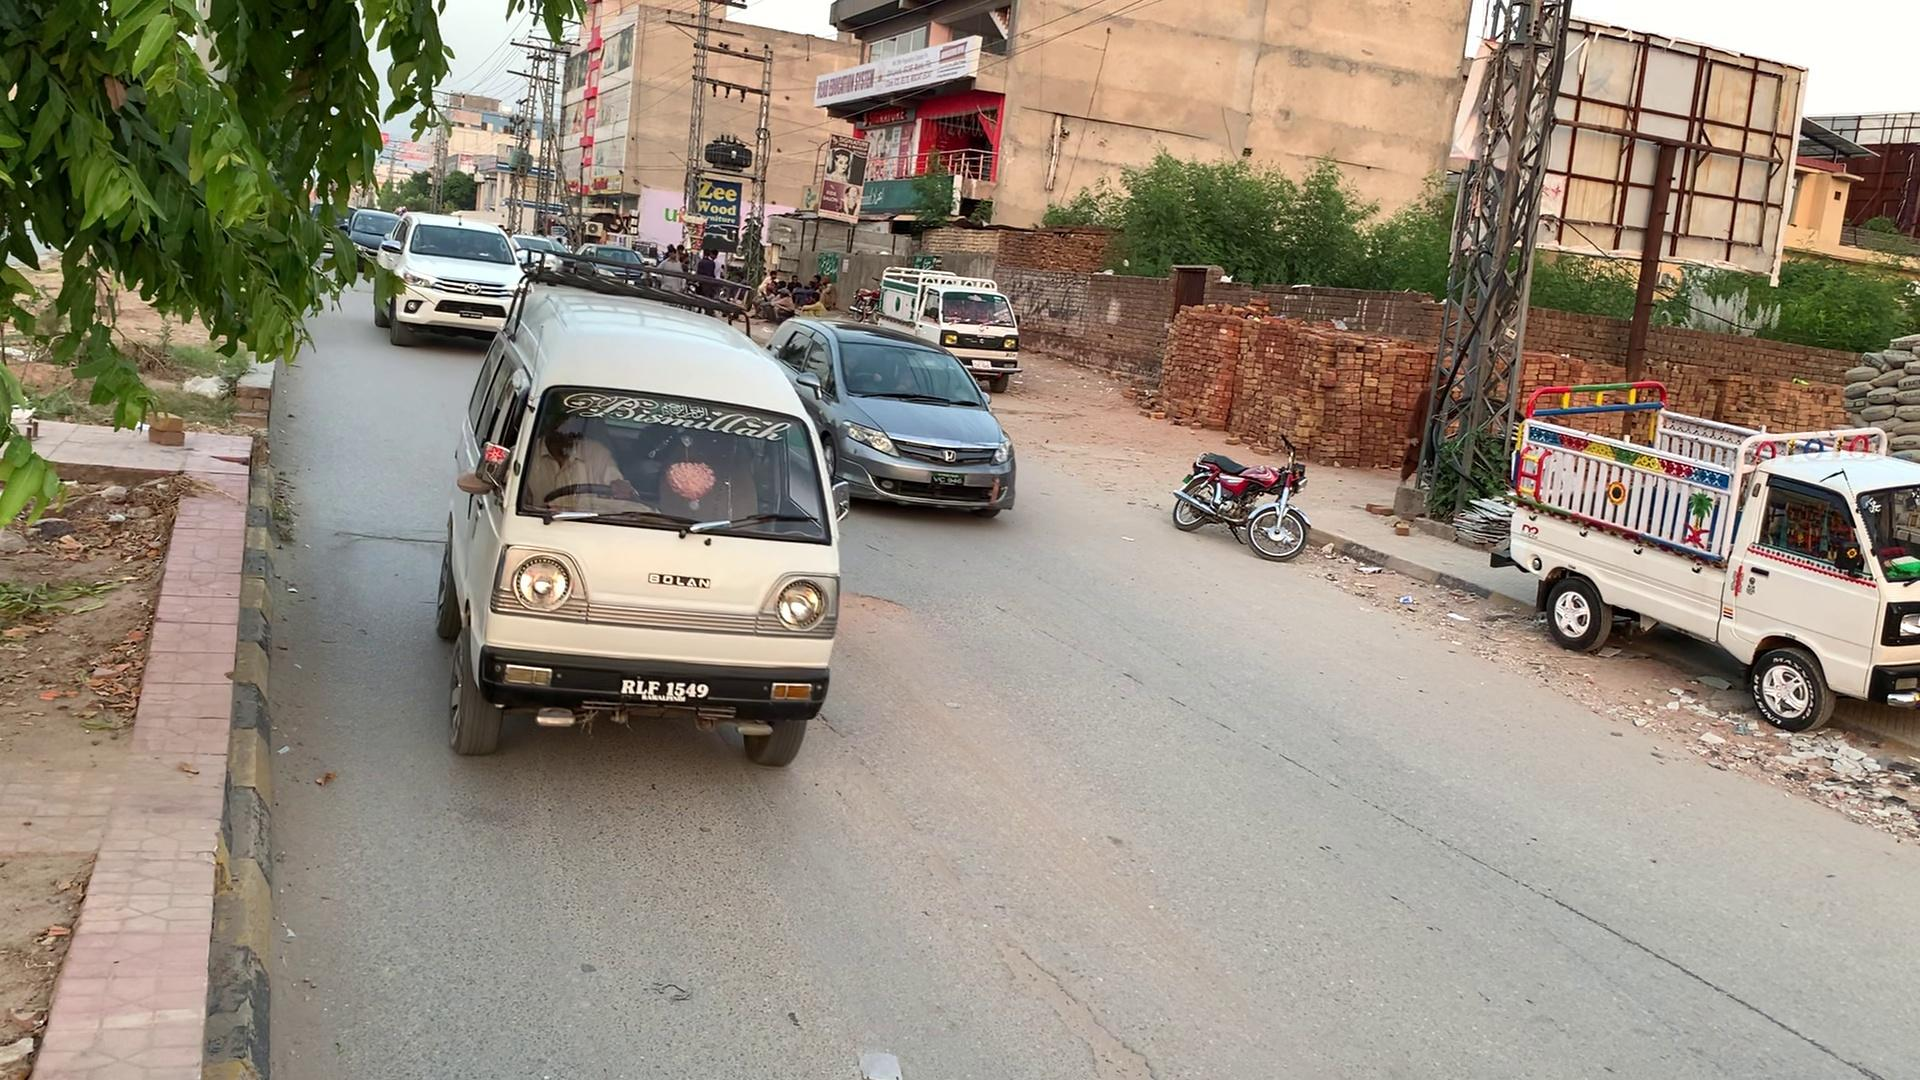windshield: (504, 367, 837, 547), (827, 330, 988, 406)
